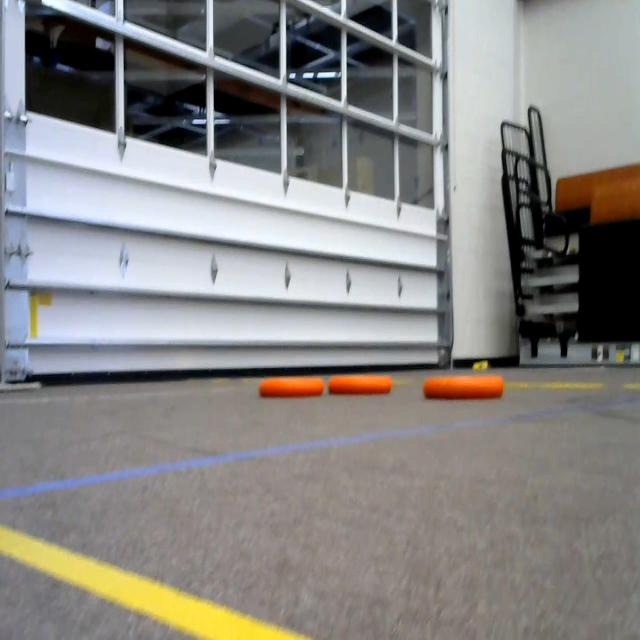note: (257, 354, 329, 412), (422, 366, 510, 406), (327, 361, 393, 407)
